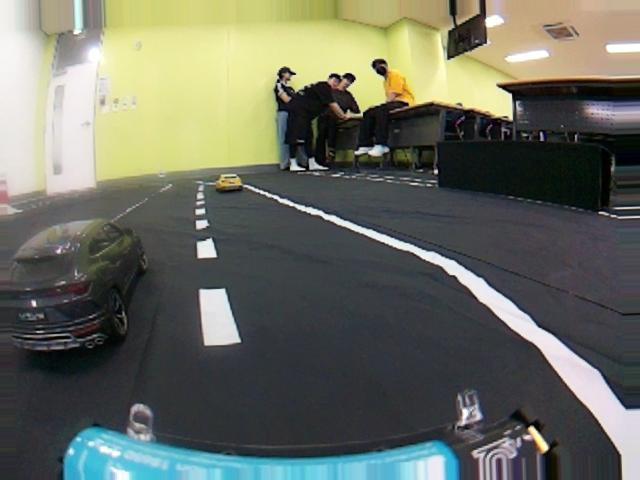car: (8, 213, 158, 355), (210, 170, 245, 196)
right: (3, 237, 640, 479)
